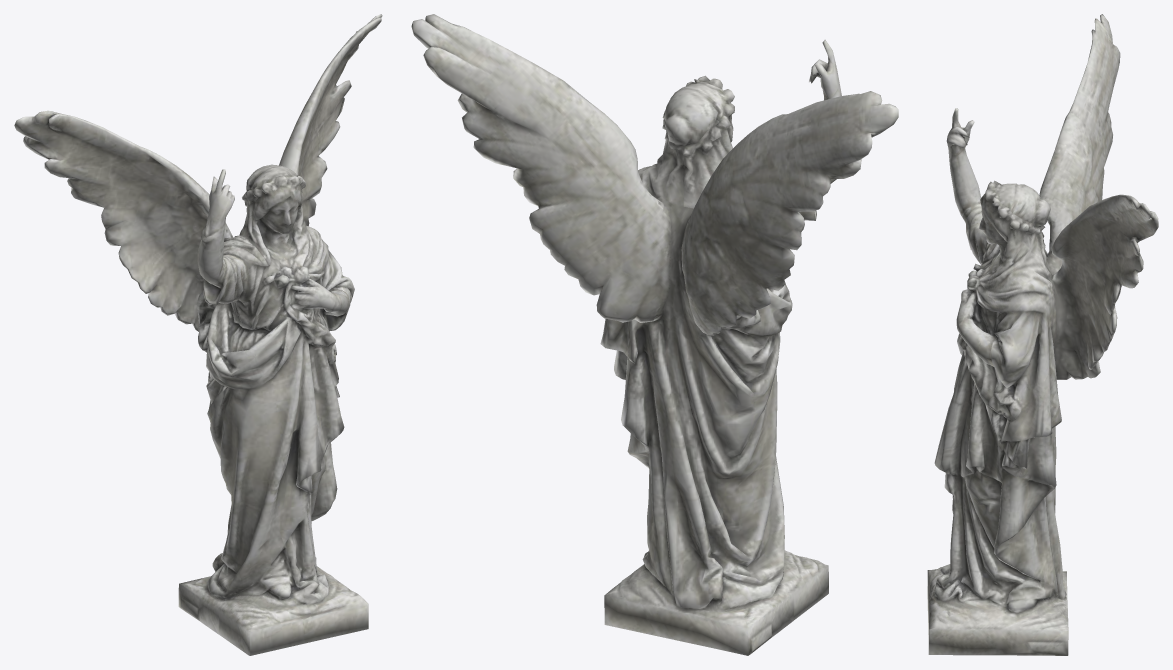
The model's file is angel.glb.
The picture shows the model from 3 angles, left to right: view 1: azimuth 30°, elevation 25°; view 2: azimuth 150°, elevation 25°; view 3: azimuth 270°, elevation 25°; orthographic projection. The views are drawn at different scales.
Parts seen in each view (by area): view 1: SilverAngel_LP_Unwrap#1_0; view 2: SilverAngel_LP_Unwrap#1_0; view 3: SilverAngel_LP_Unwrap#1_0.
Boxes of the visible parts, bbox=[...] form: SilverAngel_LP_Unwrap#1_0: bbox=[14, 14, 382, 655]; SilverAngel_LP_Unwrap#1_0: bbox=[411, 14, 898, 655]; SilverAngel_LP_Unwrap#1_0: bbox=[927, 14, 1158, 655].
Size of the model in its own units: 6.77 by 8.61 by 3.48.
1 material, 1 textured.
